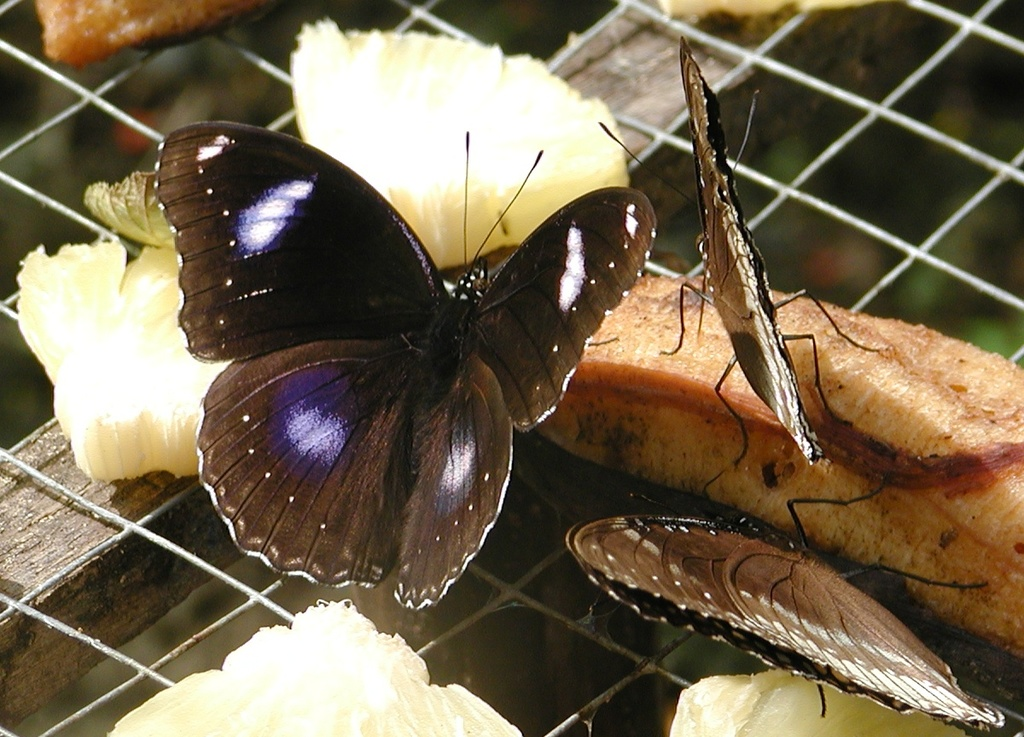Butterfly: (145, 102, 670, 626), (570, 503, 1024, 737), (676, 50, 840, 488)
